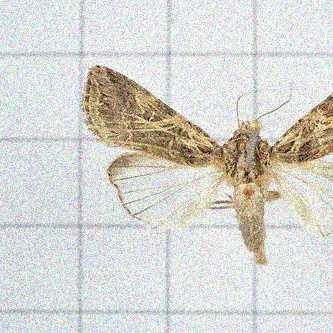Spodoptera litura: (79, 65, 332, 266)
